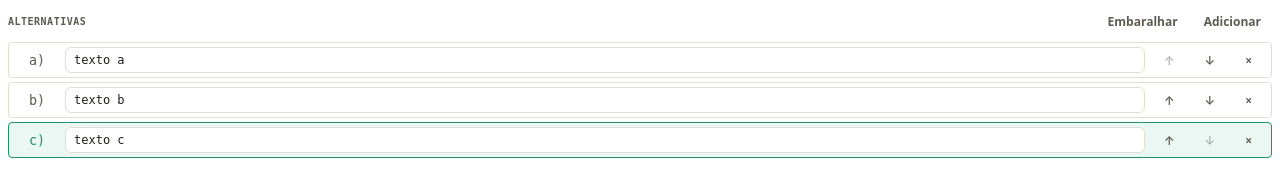
Test: OptionsEditor › dá para voltar à ordem original
The width and height of the screenshot is (1280, 175).
Click the button "Embaralhar": (1143, 21) [1097, 8, 1189, 34]
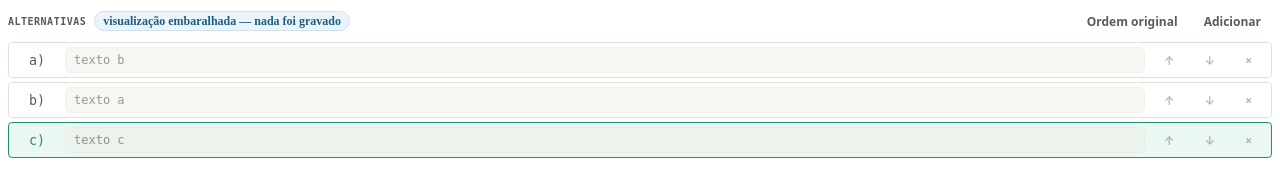
Click the button "Ordem original": (1132, 21) [1076, 8, 1189, 34]
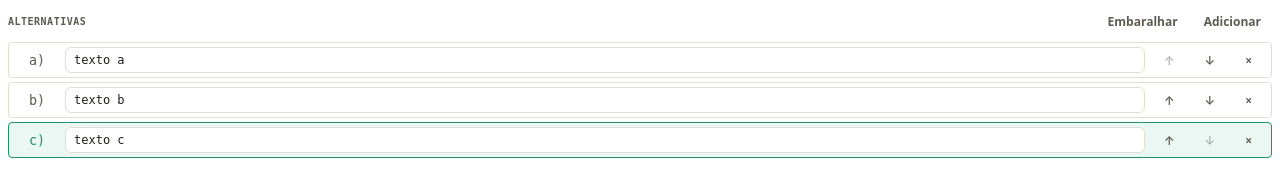
Result: the text "nada foi gravado" is gone
